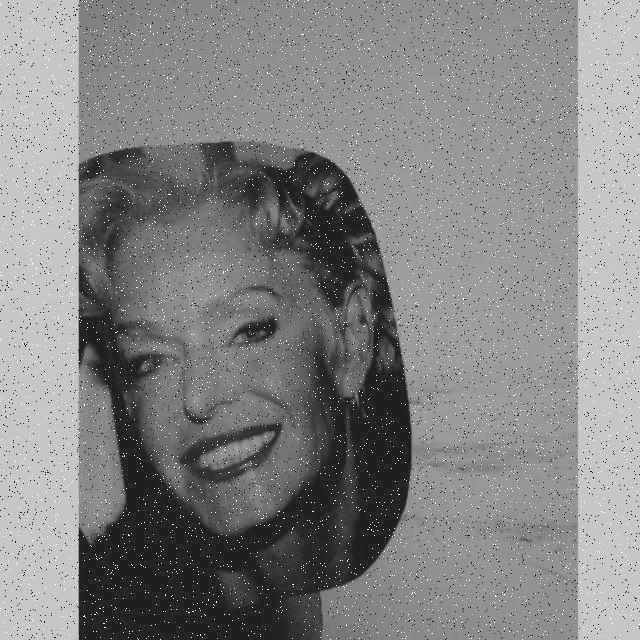fake: (80, 136, 415, 618)
